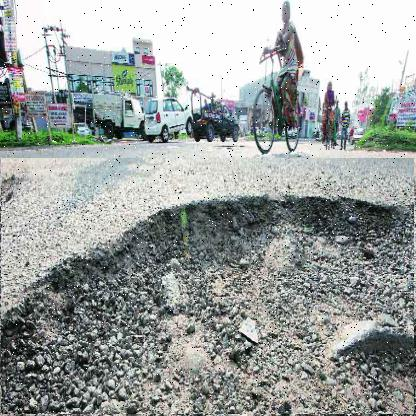pothole: (2, 158, 416, 415)
